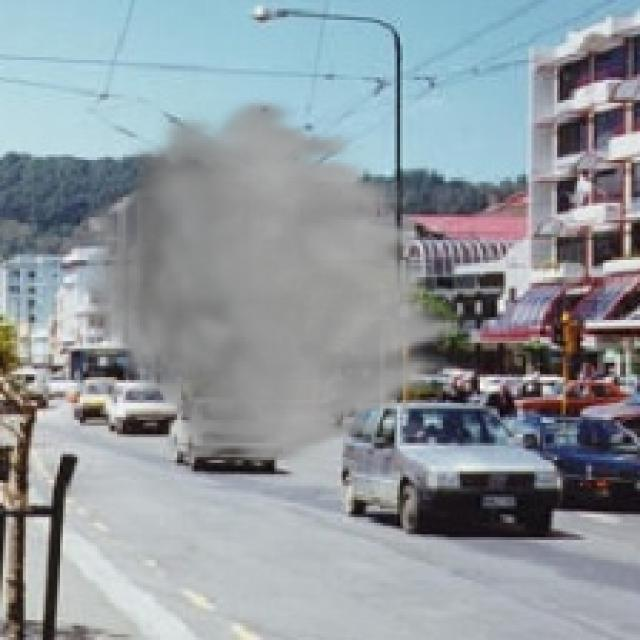smoke: (77, 94, 480, 469)
